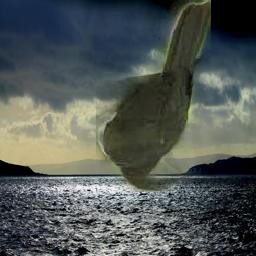Cuckoo: (97, 0, 212, 192)
